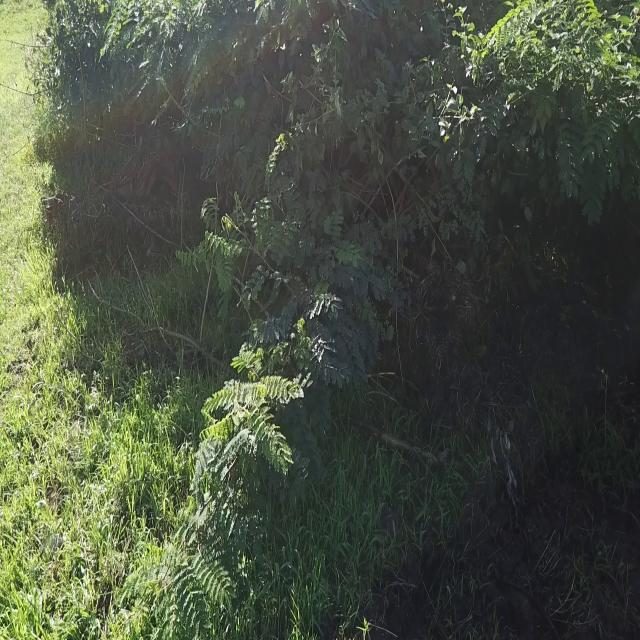Mysore-Thorn-Weed: (152, 191, 380, 628), (448, 0, 639, 194), (92, 0, 205, 71)
